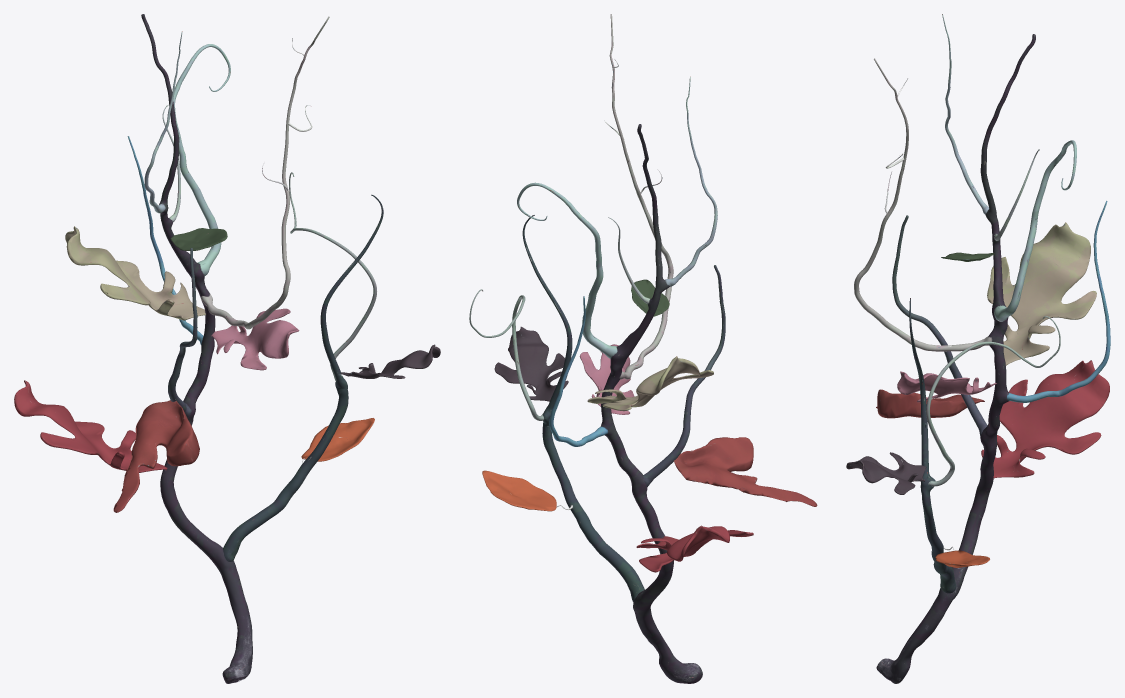
The model's file is plant 1 export.glb.
3 views of the same model, side by side, from view 1: azimuth 30°, elevation 25°; view 2: azimuth 150°, elevation 25°; view 3: azimuth 270°, elevation 25° (orthographic). The views are drawn at different scales.
Visible parts, largest first — view 1: Plant_Export.002; view 2: Plant_Export.002; view 3: Plant_Export.002.
Part boxes in pixels (x1,y1,x2,y2): Plant_Export.002: (14,14,440,683); Plant_Export.002: (469,14,817,683); Plant_Export.002: (846,14,1110,683).
Bounding box in the file's own units: 1.65 × 3.19 × 1.15.
Materials: 1 (1 with a texture image).
